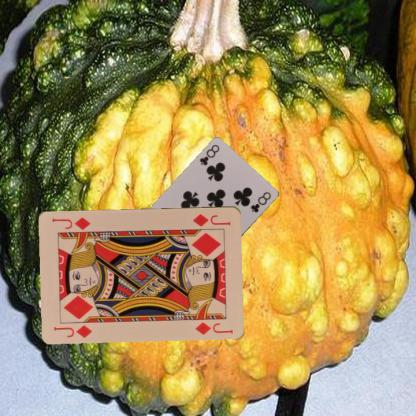8c: (197, 142, 221, 167)
Jd: (190, 210, 232, 227), (52, 322, 94, 338)
